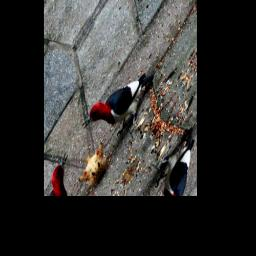Woodpecker: (77, 36, 166, 172)
